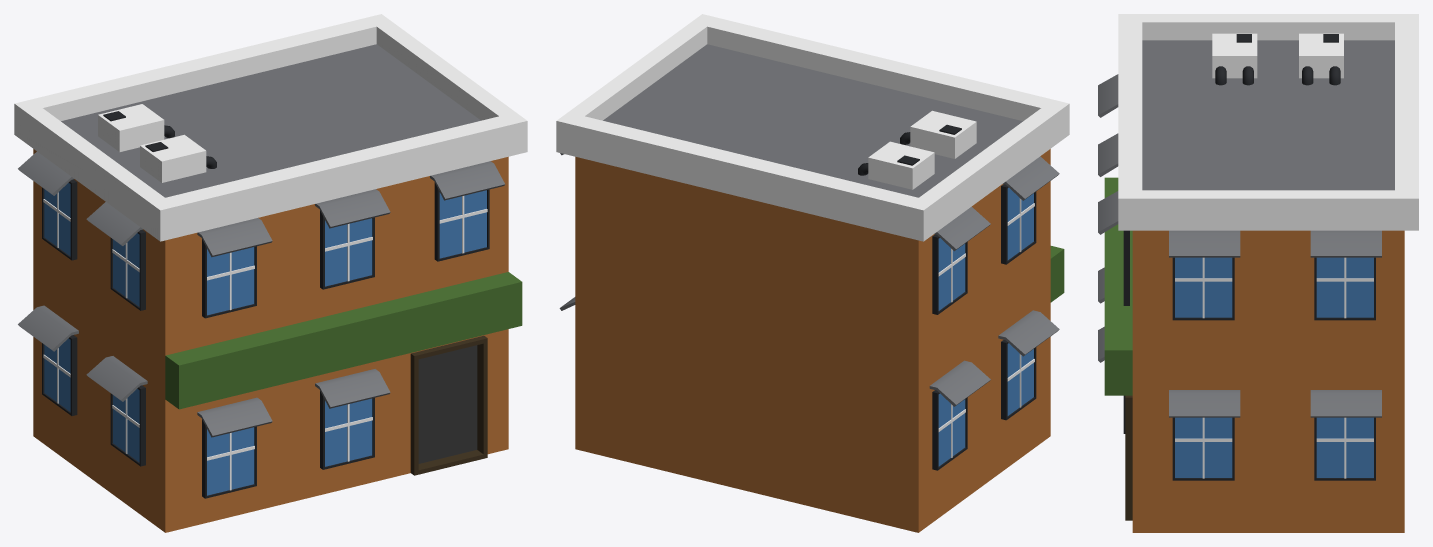
Rendered from Shop_1.fbx.
3 views of the same model, side by side, from view 1: azimuth 30°, elevation 25°; view 2: azimuth 150°, elevation 25°; view 3: azimuth 270°, elevation 25° (orthographic). The views are drawn at different scales.
Parts seen in each view (by area): view 1: Shop_1; view 2: Shop_1; view 3: Shop_1.
Boxes of the visible parts, box(x1,y1,x2,y2) form: Shop_1: box(14, 14, 527, 532); Shop_1: box(556, 14, 1069, 532); Shop_1: box(1098, 14, 1418, 532).
Size of the model in its own units: 1001 by 809 by 681.
